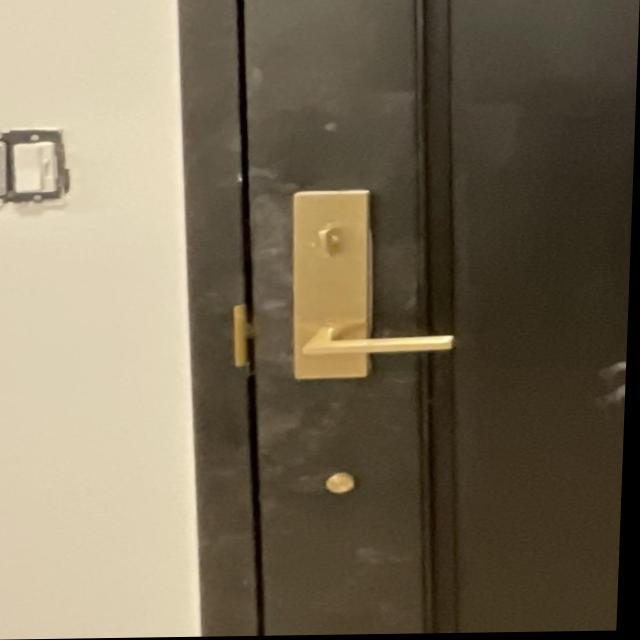door_handle: (279, 325, 475, 370)
